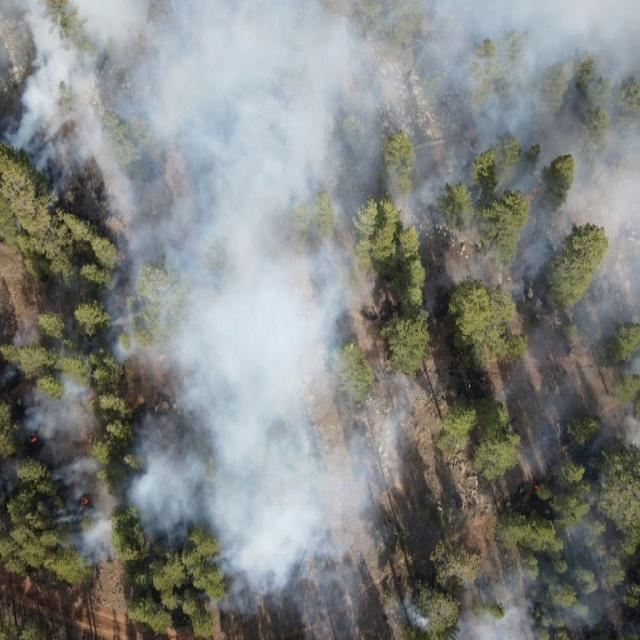fire: (80, 494, 87, 508), (29, 434, 38, 444), (118, 250, 126, 260), (533, 482, 541, 492)
smoke: (87, 199, 430, 640), (0, 0, 640, 199), (505, 199, 640, 377), (0, 314, 87, 564), (534, 407, 622, 634), (444, 579, 535, 640), (624, 405, 640, 451)
